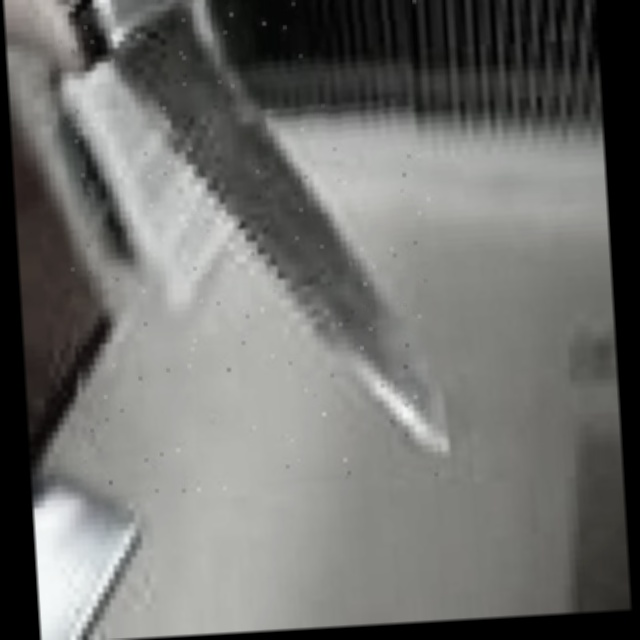Sharp-Object: (53, 0, 448, 497)
